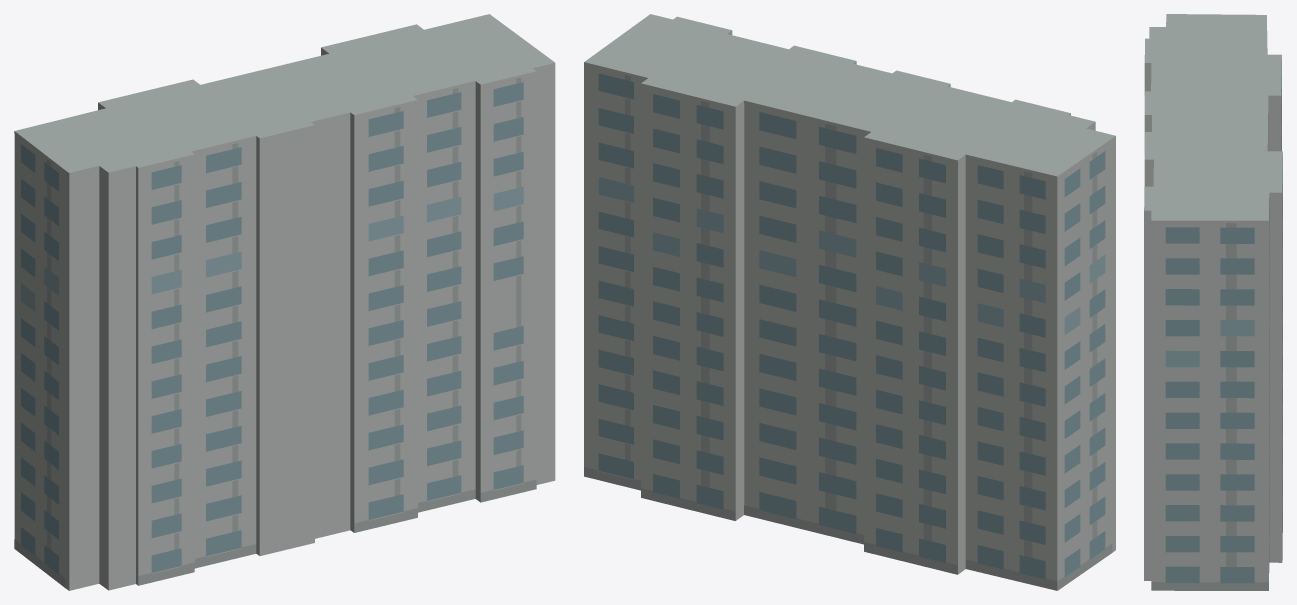
Rendered from residential-bd06a6d5-80ac-4ce4-9437-7245a2551f1c.glb.
The picture shows the model from 3 angles, left to right: view 1: azimuth 30°, elevation 25°; view 2: azimuth 150°, elevation 25°; view 3: azimuth 270°, elevation 25°; orthographic projection. The views are drawn at different scales.
Visible parts, largest first — view 1: residential-bd06a6d5-80ac-4ce4-9437-7245a2551f1c.tmp; view 2: residential-bd06a6d5-80ac-4ce4-9437-7245a2551f1c.tmp; view 3: residential-bd06a6d5-80ac-4ce4-9437-7245a2551f1c.tmp.
Part boxes in pixels (bbox=[...]): residential-bd06a6d5-80ac-4ce4-9437-7245a2551f1c.tmp: bbox=[14, 14, 555, 590]; residential-bd06a6d5-80ac-4ce4-9437-7245a2551f1c.tmp: bbox=[584, 14, 1115, 590]; residential-bd06a6d5-80ac-4ce4-9437-7245a2551f1c.tmp: bbox=[1144, 14, 1282, 590].
Size of the model in its own units: 43.85 by 36.6 by 12.45.
